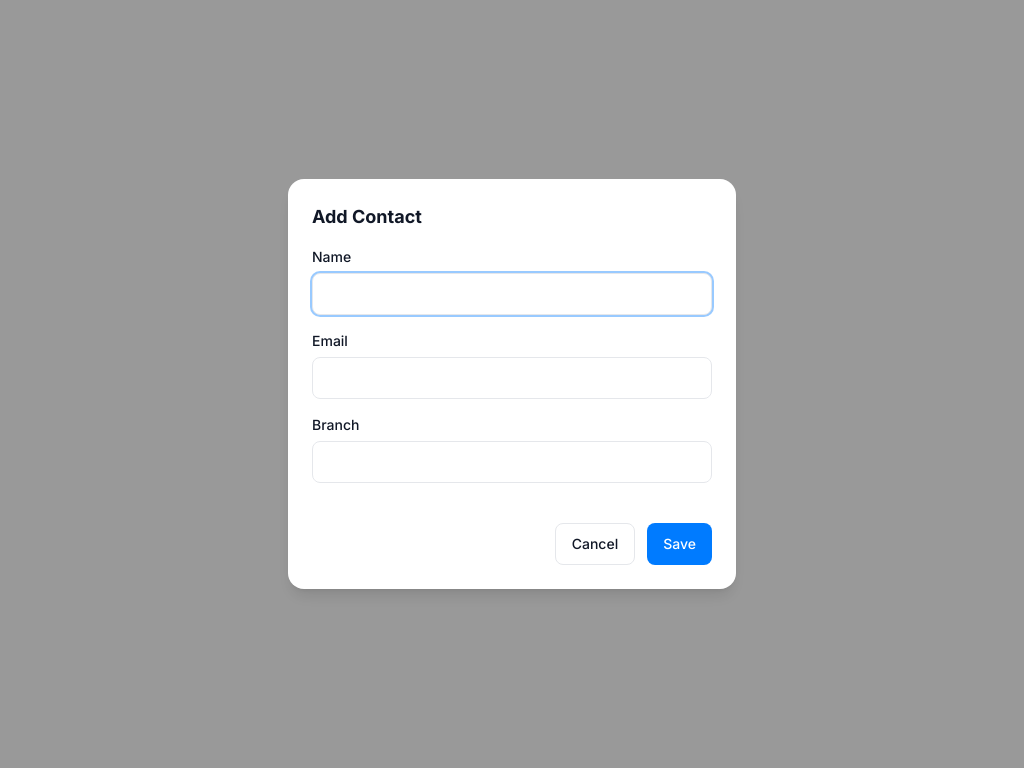
ContactFormModal › blocks submission and shows validation errors when required fields are empty
Click the button "Save": [680, 544] box left=647, top=523, right=712, bottom=565
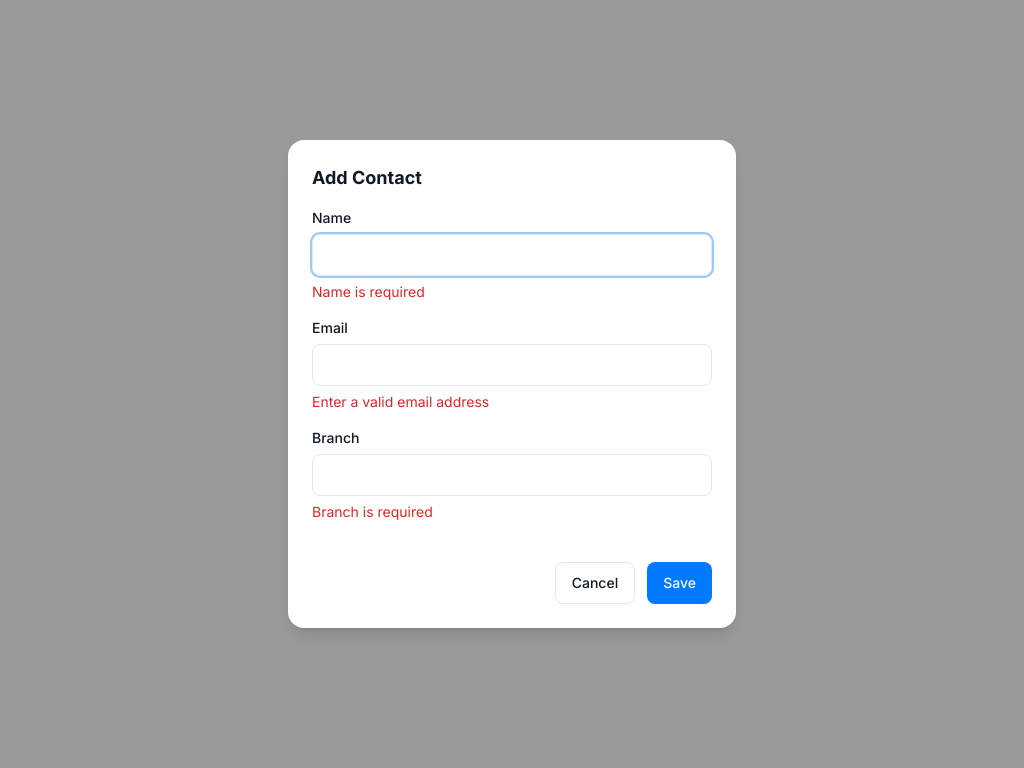
Expected: the text "Name is required" is shown, left=312, top=283, right=425, bottom=300
Expected: the text "Enter a valid email address" is shown, left=312, top=393, right=489, bottom=410
Expected: the text "Branch is required" is shown, left=312, top=503, right=433, bottom=520
